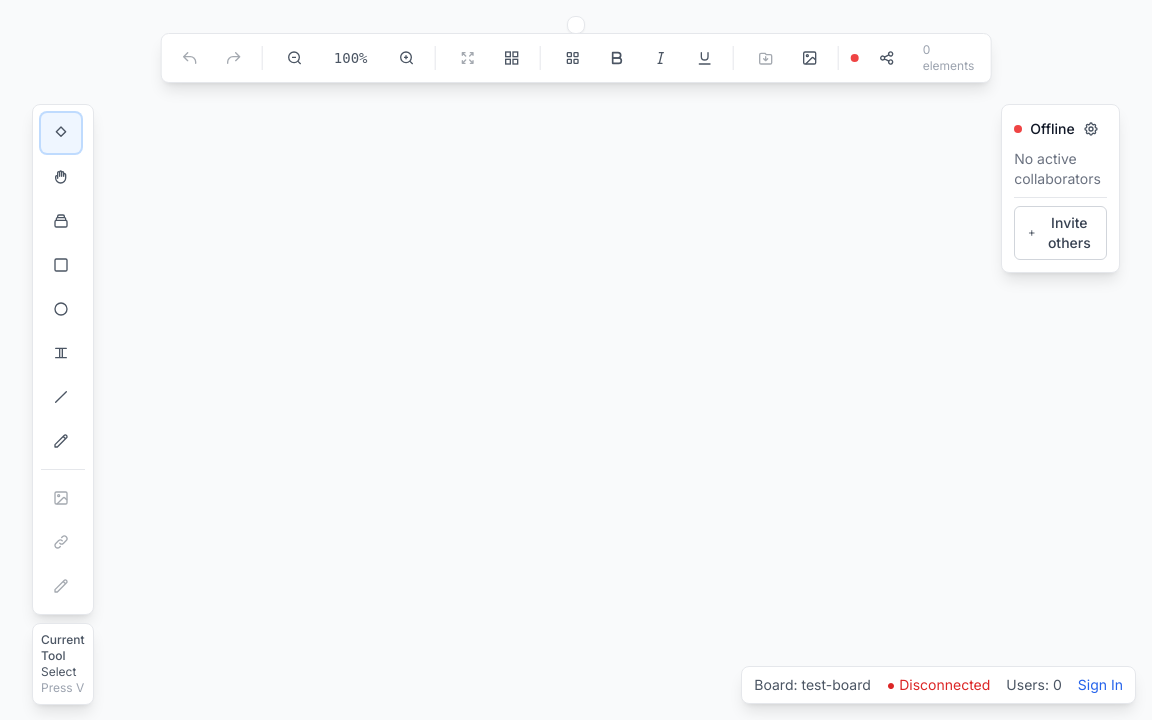
Test case: Image Upload Integration › Toolbar Integration › should show tooltip on hover
The image size is (1152, 720).
Hover over the button with test id "image-upload-button" at {"x": 810, "y": 58}, box [790,44,830,72]
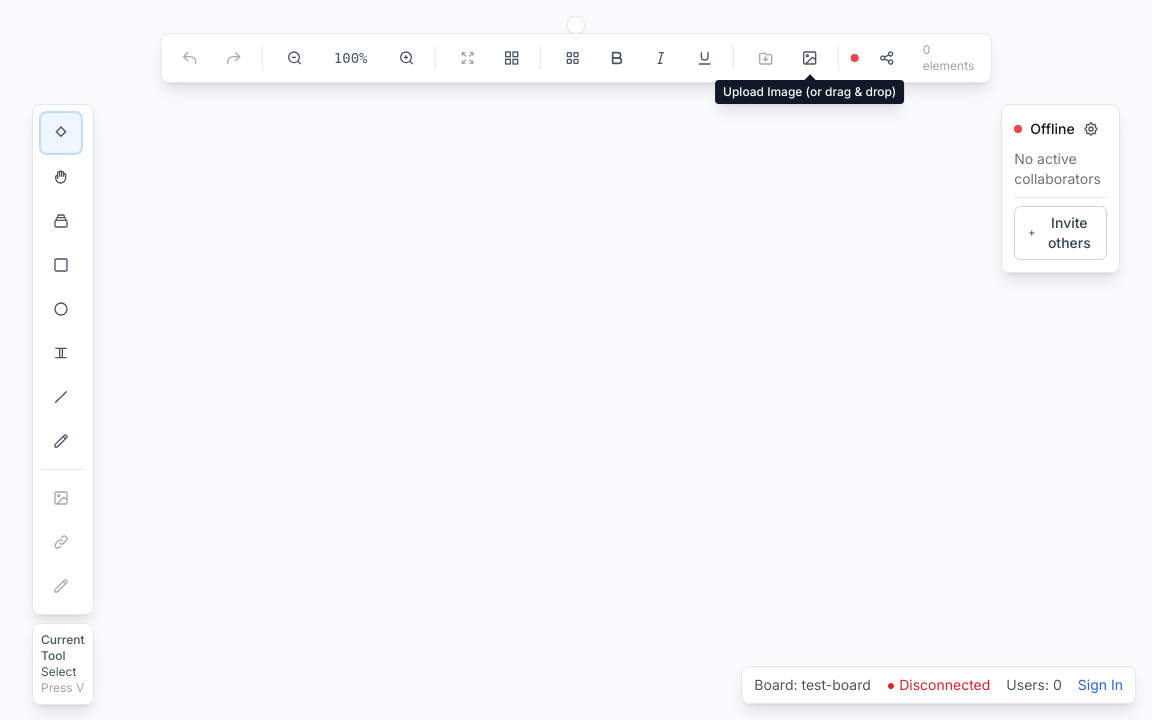
expect the text "Upload Image (or drag & drop)" is shown: met, box [715,80,904,104]
